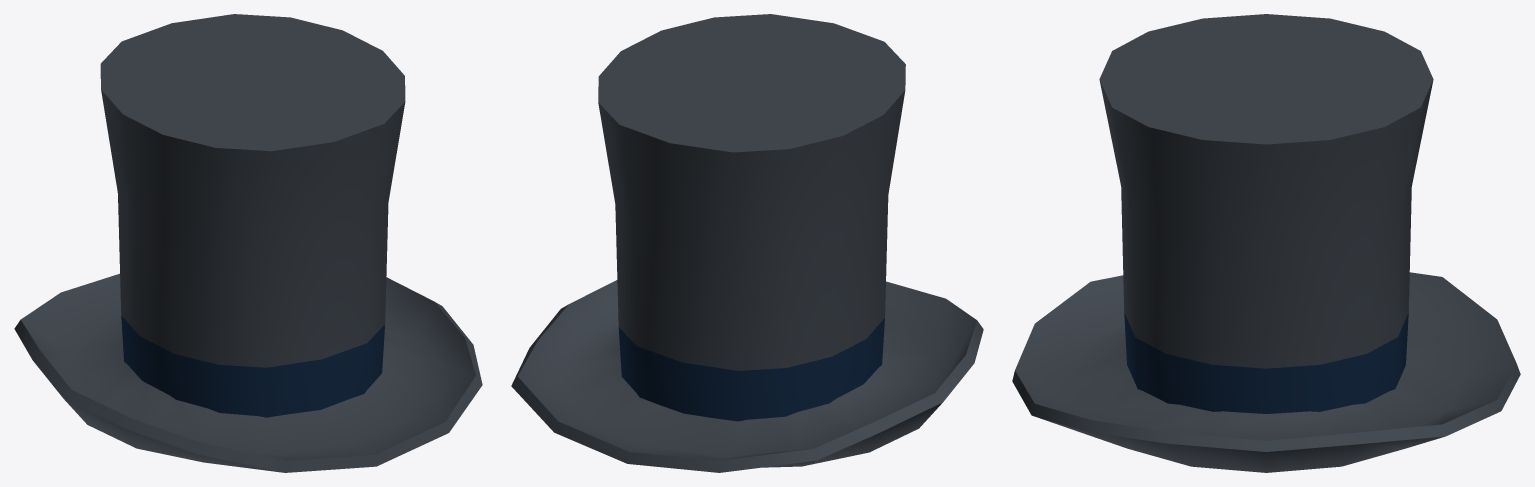
File: Сylinder_Hat.fbx
3 renders of one model, left to right at view 1: azimuth 30°, elevation 25°; view 2: azimuth 150°, elevation 25°; view 3: azimuth 270°, elevation 25°, orthographic. The views are drawn at different scales.
Parts seen in each view (by area): view 1: Сylinder_Hat; view 2: Сylinder_Hat; view 3: Сylinder_Hat.
Boxes of the visible parts, x1,y1,x2,y2 form: Сylinder_Hat: (14,14,482,472); Сylinder_Hat: (511,14,983,472); Сylinder_Hat: (1012,14,1520,472).
Size of the model in its own units: 0.7188 by 0.5469 by 0.8116.
